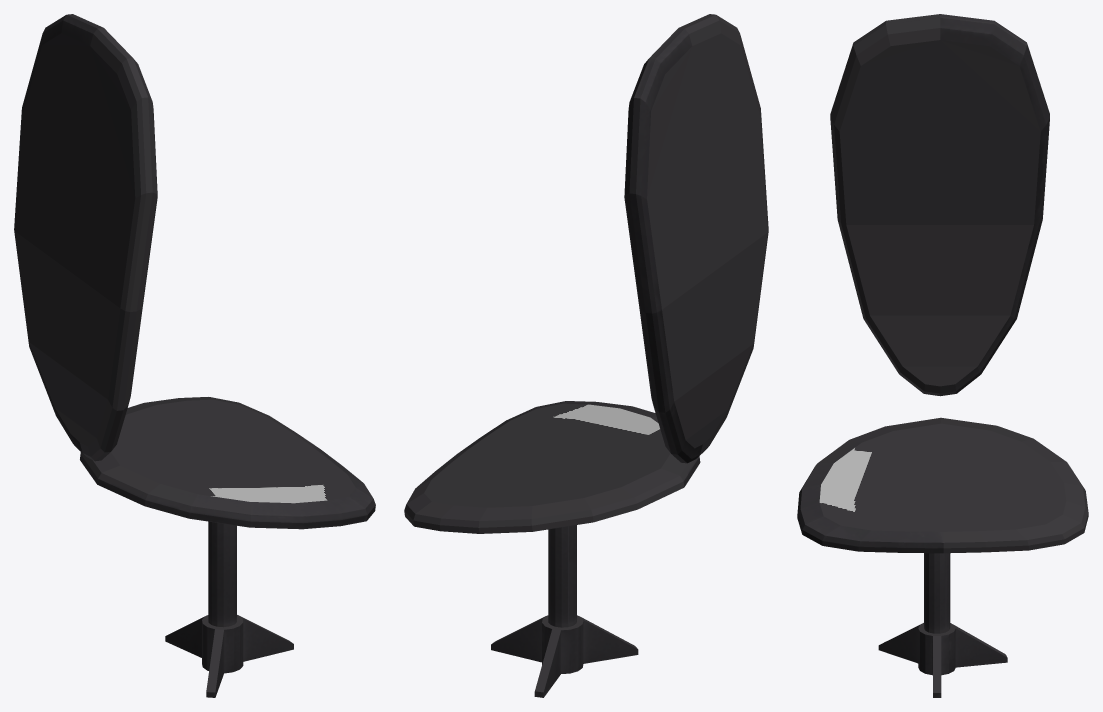
File: SILLAHOST_0.3.fbx
The picture shows the model from 3 angles, left to right: view 1: azimuth 30°, elevation 25°; view 2: azimuth 150°, elevation 25°; view 3: azimuth 270°, elevation 25°; orthographic projection. The views are drawn at different scales.
Visible parts, largest first — view 1: SILLA; view 2: SILLA; view 3: SILLA.
Part boxes in pixels (x1,y1,x2,y2): SILLA: (14,14,375,697); SILLA: (404,14,768,697); SILLA: (797,14,1088,697).
Bounding box in the file's own units: 60.13 × 65.69 × 149.
